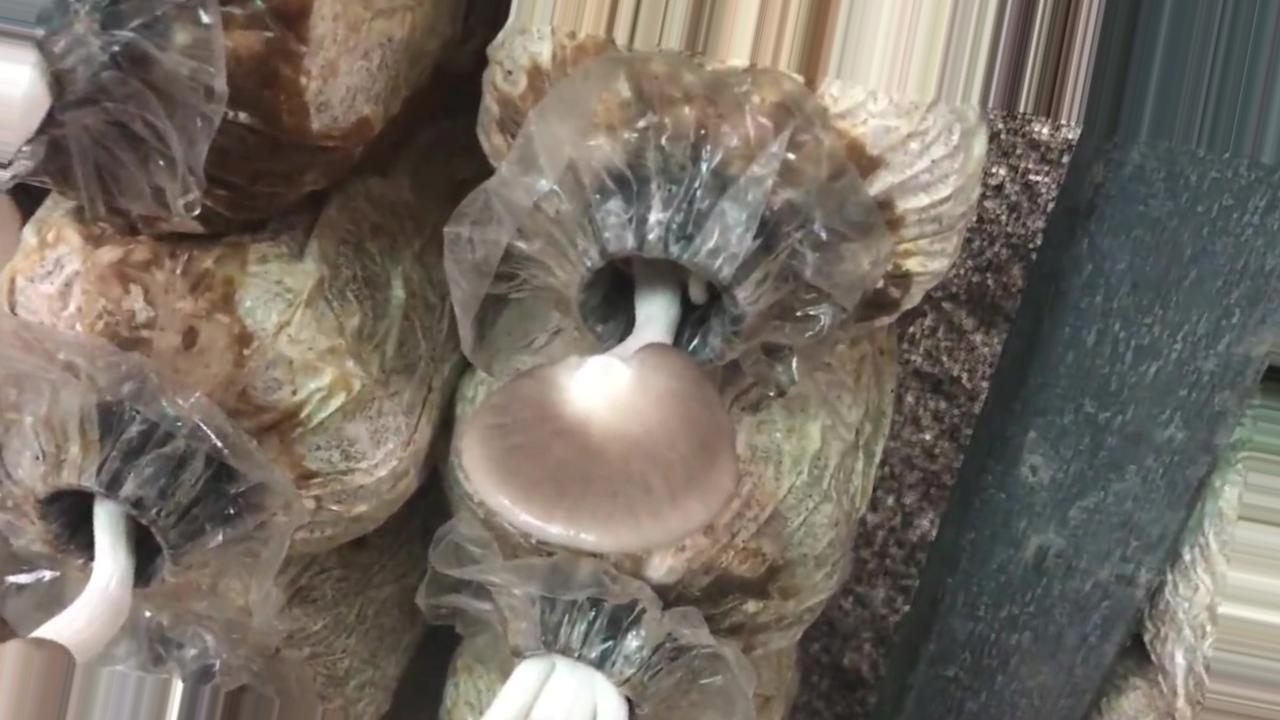nam: (455, 192, 745, 552)
